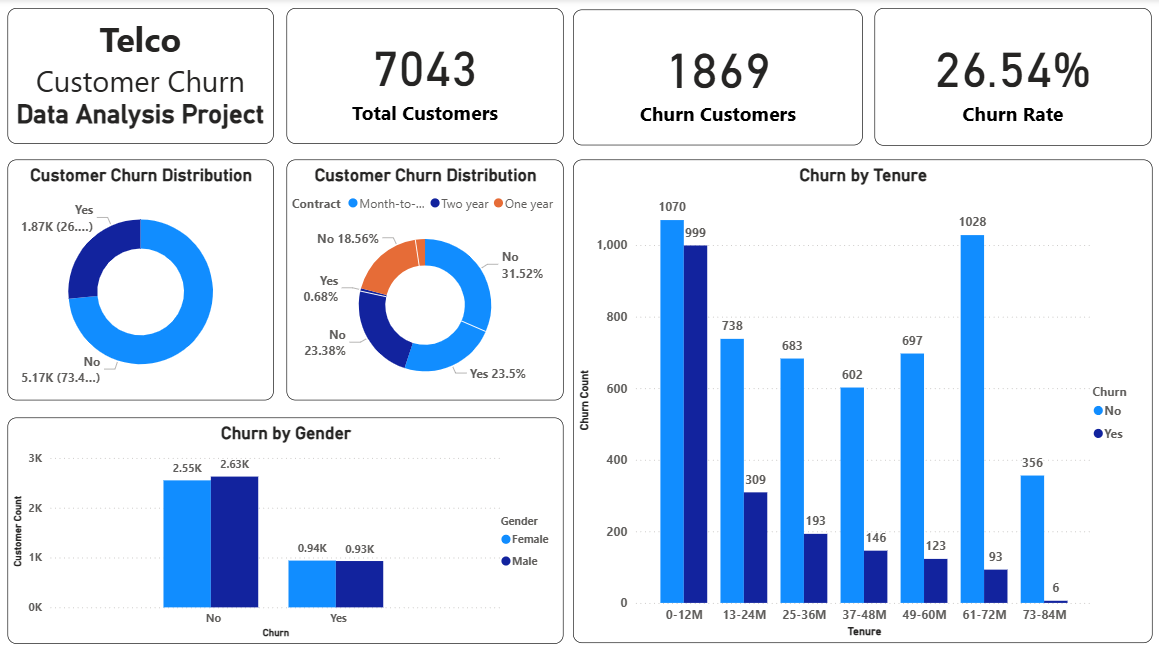

What the dashboard file says about the page in this screenshot:
{"tool":"powerbi","page":{"name":"Overview","canvas":[1280,720],"ordinal":0},"visuals":[{"type":"card","title":"Total Customers","fields":{"Values":["Table.Total Customers"]},"box":[316,10,306,150],"z":0},{"type":"card","fields":{"Values":["Table.Churn Customers"]},"box":[632,12,320,150],"z":1000},{"type":"card","fields":{"Values":["Table.Churn Rate"]},"box":[966,10,306,152],"z":2000},{"type":"donutChart","title":"Customer Churn Distribution","fields":{"Y":["CountNonNull(churn_data.customerID)"],"Series":["churn_data.Churn"]},"box":[8,178,294,266],"z":3000},{"type":"clusteredColumnChart","title":"Churn by Gender","fields":{"Category":["churn_data.Churn"],"Series":["churn_data.gender"],"Y":["CountNonNull(churn_data.gender)"]},"box":[8,462,614,250],"z":4000},{"type":"clusteredColumnChart","title":"Churn by Tenure","fields":{"Category":["churn_data.tenure_bins"],"Series":["churn_data.Churn"],"Y":["CountNonNull(churn_data.Churn)"]},"box":[632,178,640,534],"z":5000},{"type":"donutChart","title":"Customer Churn Distribution","fields":{"Y":["CountNonNull(churn_data.Contract)"],"Category":["churn_data.Contract"],"Series":["churn_data.Churn"]},"box":[316,178,306,266],"z":6000},{"type":"textbox","box":[8,10,294,150],"z":6001}]}

Visuals, with their boxes in screenshot pixels (x1, y1, x2, y2), scaled from the page's 1280x720 canvas onto the 1159x651 screenshot:
"Total Customers" card: {"x1": 286, "y1": 9, "x2": 563, "y2": 145}
card - Table.Churn Customers: {"x1": 572, "y1": 11, "x2": 862, "y2": 146}
card - Table.Churn Rate: {"x1": 875, "y1": 9, "x2": 1152, "y2": 146}
"Customer Churn Distribution" donutChart: {"x1": 7, "y1": 161, "x2": 273, "y2": 401}
"Churn by Gender" clusteredColumnChart: {"x1": 7, "y1": 418, "x2": 563, "y2": 644}
"Churn by Tenure" clusteredColumnChart: {"x1": 572, "y1": 161, "x2": 1152, "y2": 644}
"Customer Churn Distribution" donutChart: {"x1": 286, "y1": 161, "x2": 563, "y2": 401}
textbox: {"x1": 7, "y1": 9, "x2": 273, "y2": 145}
